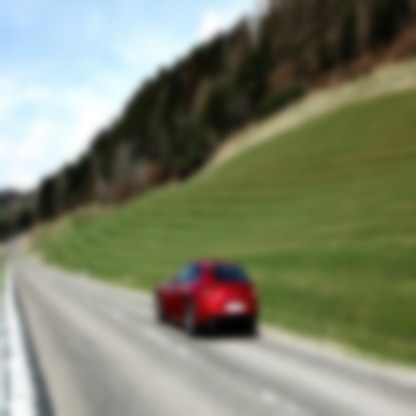Vehicle: (154, 258, 258, 338)
